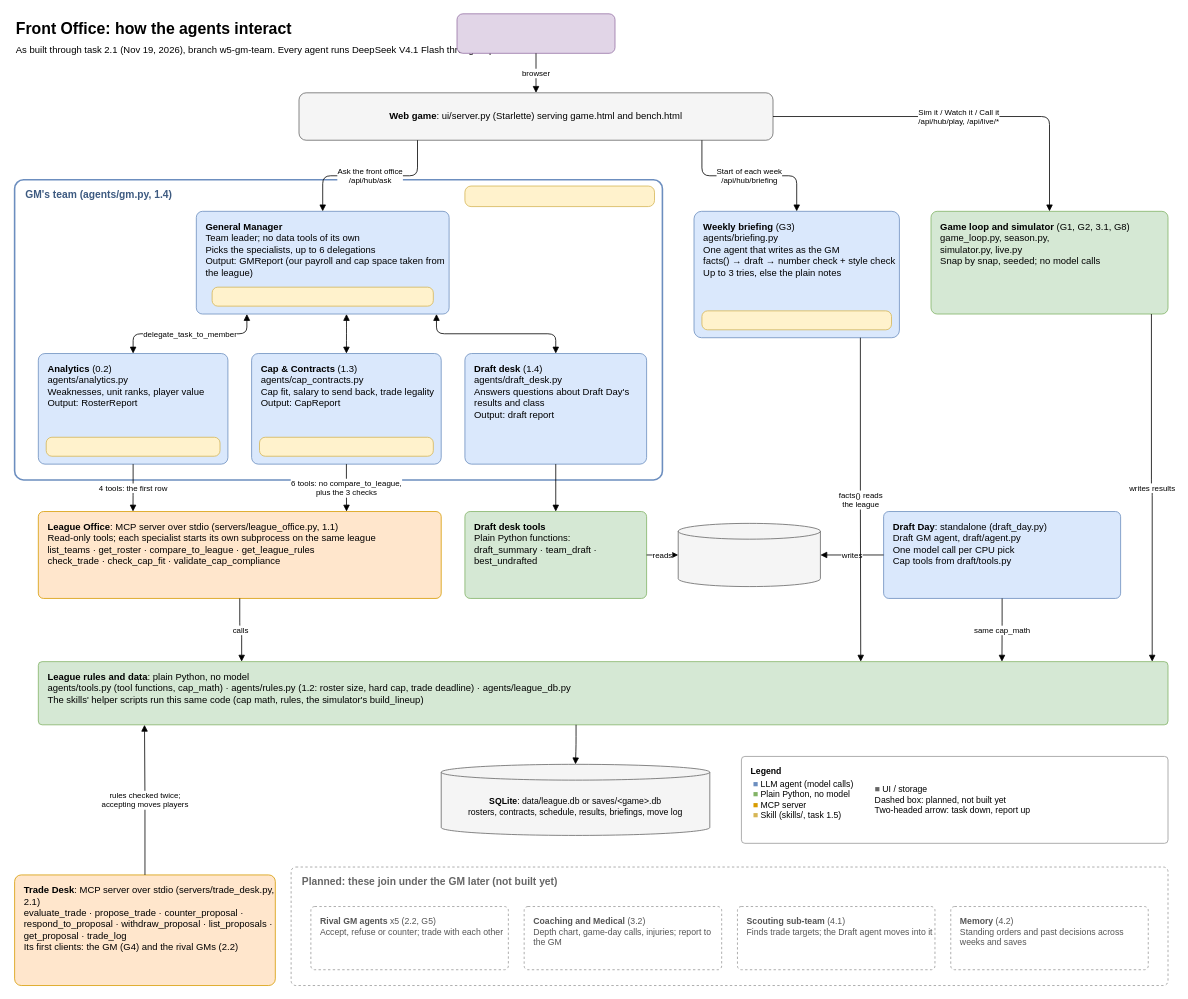
This 1188x999 diagram has some shape labels left out. The shapes that lost their labels are listed below. From the top down, each one's centre as x and y in pixels, then its label:
point 535,33: Owner (you)
point 559,196: Agno Team, coordinate mode; specialists see each other's earlier answers
point 322,296: skill: front-office-memo (always on)
point 796,320: skill: front-office-memo + memo.py checks
point 132,446: skills: player-valuation, roster-impact
point 346,446: skill: salary-cap-rules
point 748,555: data/draft_results.json
